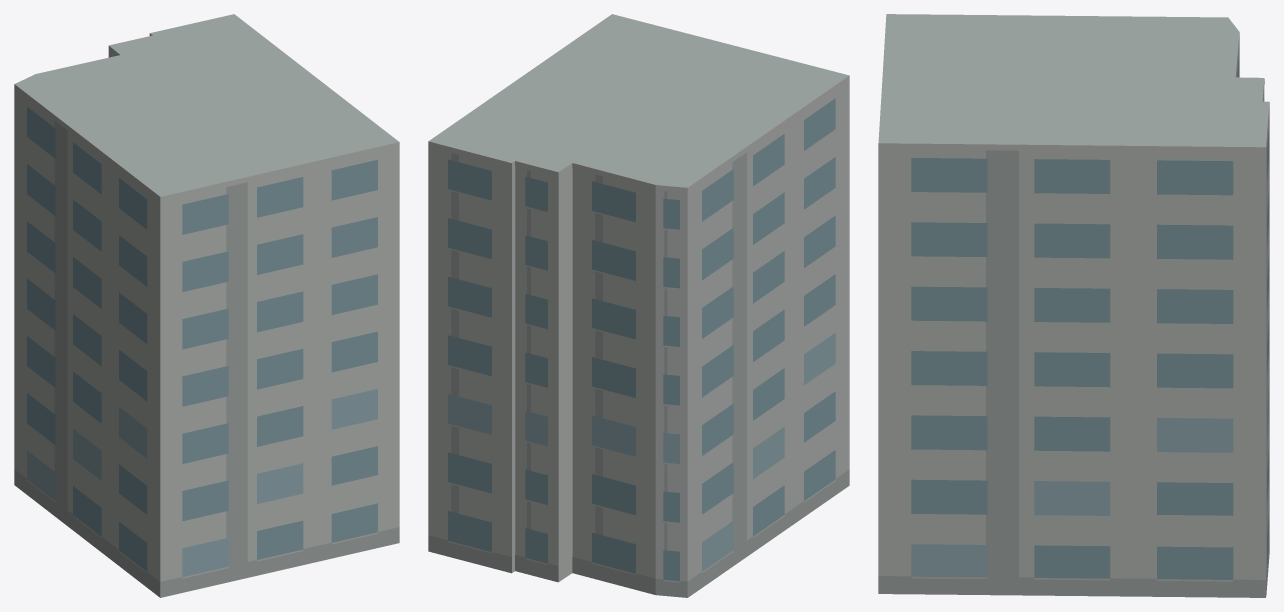
Rendered from survey-upis-32769429.glb.
3 renders of one model, left to right at view 1: azimuth 30°, elevation 25°; view 2: azimuth 150°, elevation 25°; view 3: azimuth 270°, elevation 25°, orthographic. The views are drawn at different scales.
Visible parts, largest first — view 1: survey-upis-32769429.tmp; view 2: survey-upis-32769429.tmp; view 3: survey-upis-32769429.tmp.
Part boxes in pixels (x1=…): survey-upis-32769429.tmp: x1=14, y1=14, x2=399, y2=597; survey-upis-32769429.tmp: x1=428, y1=14, x2=849, y2=597; survey-upis-32769429.tmp: x1=878, y1=14, x2=1269, y2=597.
Size of the model in its own units: 11.55 by 18.2 by 14.32.
